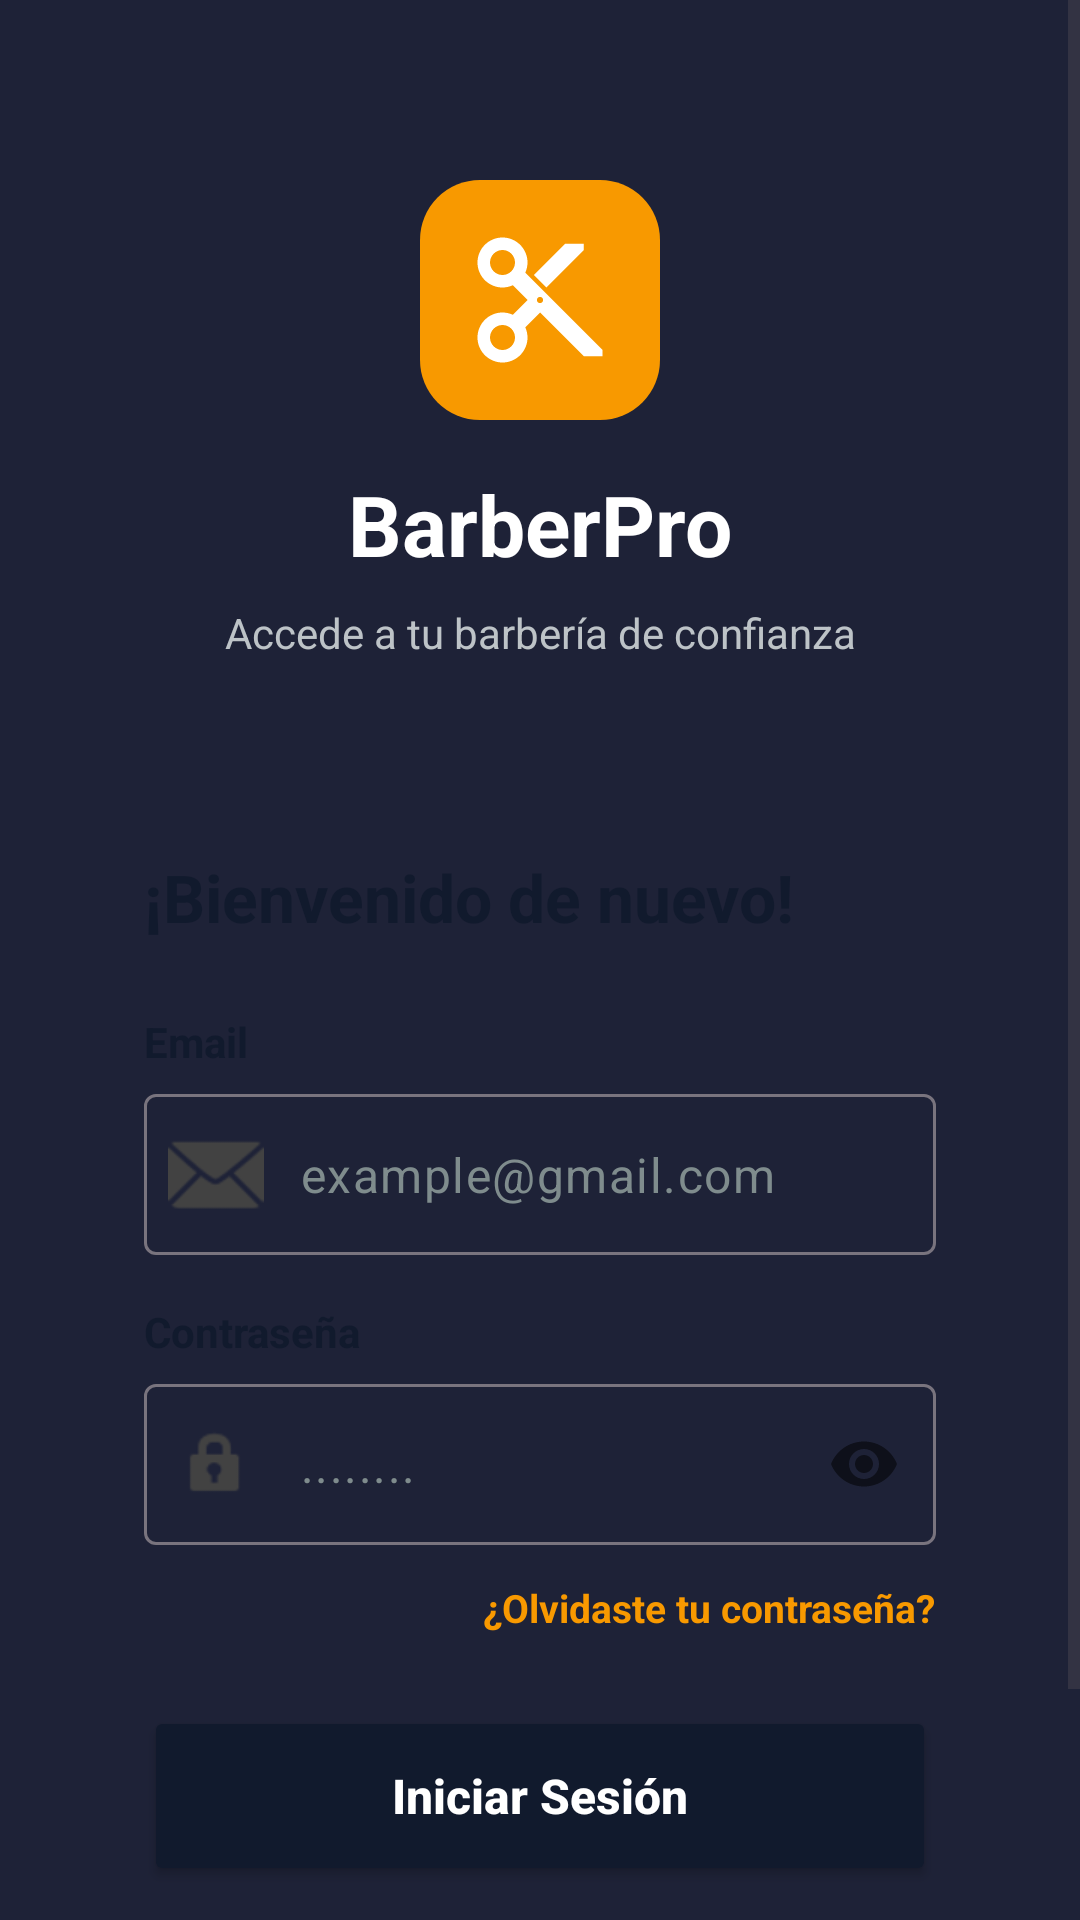

Screen size 1080×1920. Icon name, then its box in pixels as {"x1": x1, "y1": y1, "x2": x2, "y2": y2}:
cut: {"x1": 420, "y1": 180, "x2": 660, "y2": 420}
